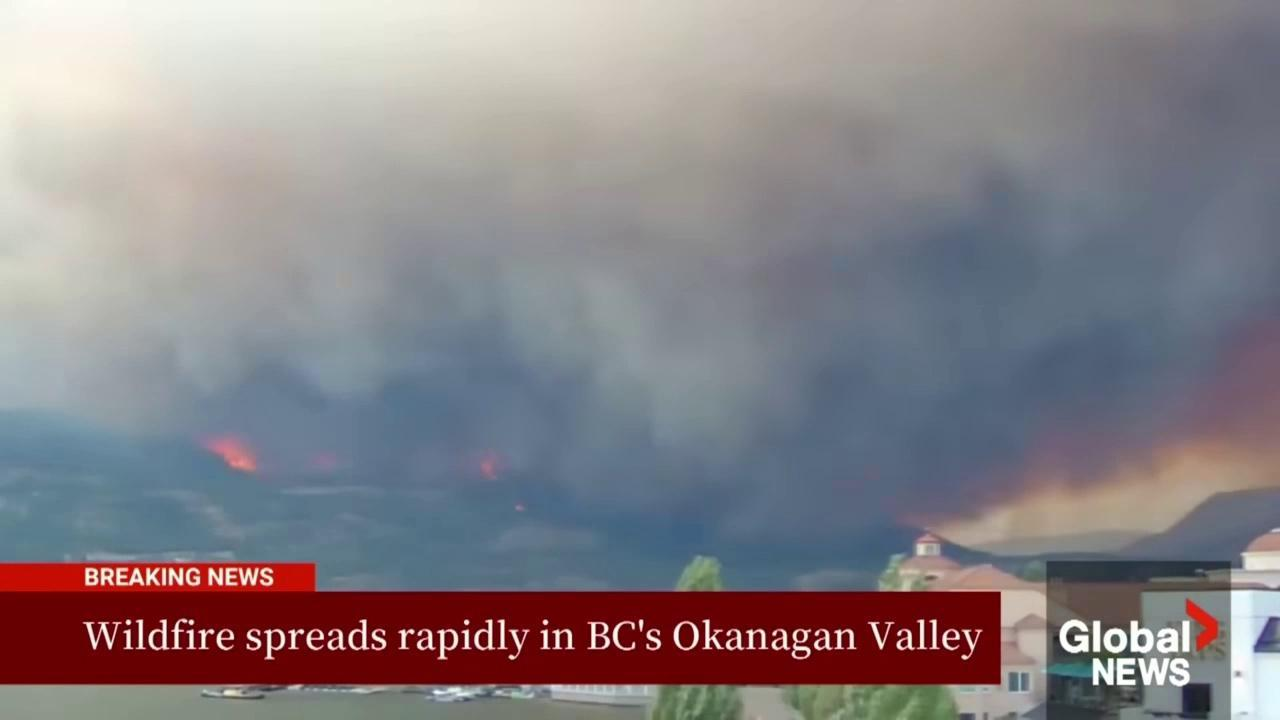fire: (201, 435, 259, 472), (477, 457, 502, 484), (511, 501, 530, 515)
smoke: (0, 0, 1280, 545)
